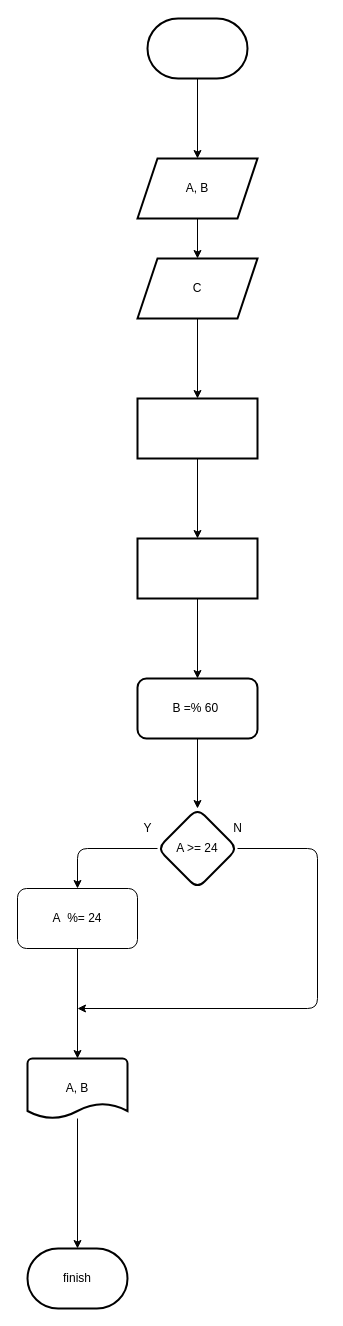
This 343x1326 diagram has some shape labels left out. Here are the shapes that lost their labels. From the top down, the centre of each, then its label:
At pixel 197 48: "start".
At pixel 197 428: "B += 60".
At pixel 197 568: "A += B // 60".
